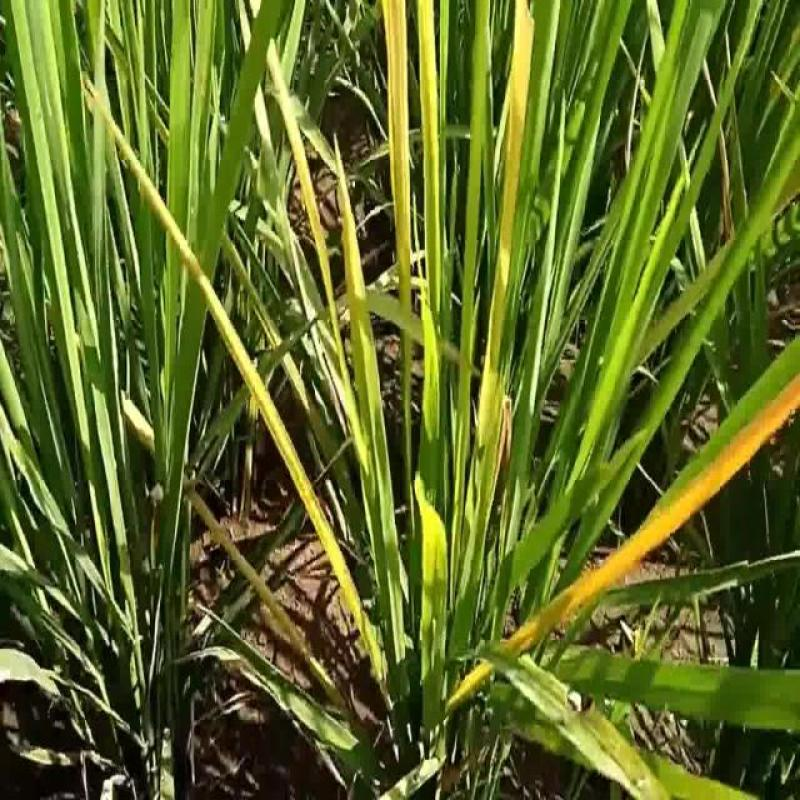Rice Tungro: (76, 73, 318, 528), (512, 358, 798, 674), (473, 4, 538, 461), (253, 1, 335, 314), (331, 120, 390, 409), (379, 4, 419, 314), (416, 3, 448, 278)
